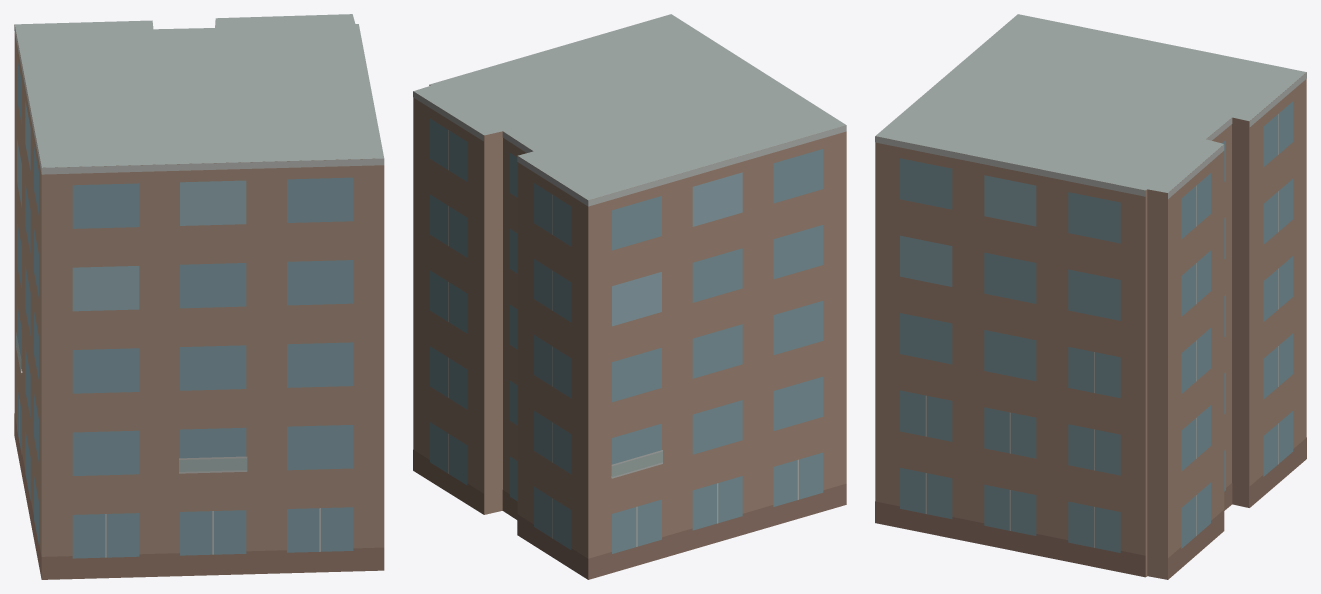
File: survey-upis-32819140.glb
3 renders of one model, left to right at view 1: azimuth 30°, elevation 25°; view 2: azimuth 150°, elevation 25°; view 3: azimuth 270°, elevation 25°, orthographic. The views are drawn at different scales.
Visible parts, largest first — view 1: survey-upis-32819140.tmp; view 2: survey-upis-32819140.tmp; view 3: survey-upis-32819140.tmp.
Part boxes in pixels (bbox=[...]): survey-upis-32819140.tmp: bbox=[14, 14, 384, 579]; survey-upis-32819140.tmp: bbox=[413, 14, 846, 579]; survey-upis-32819140.tmp: bbox=[875, 14, 1306, 579].
Size of the model in its own units: 14.79 by 14.9 by 15.08.
